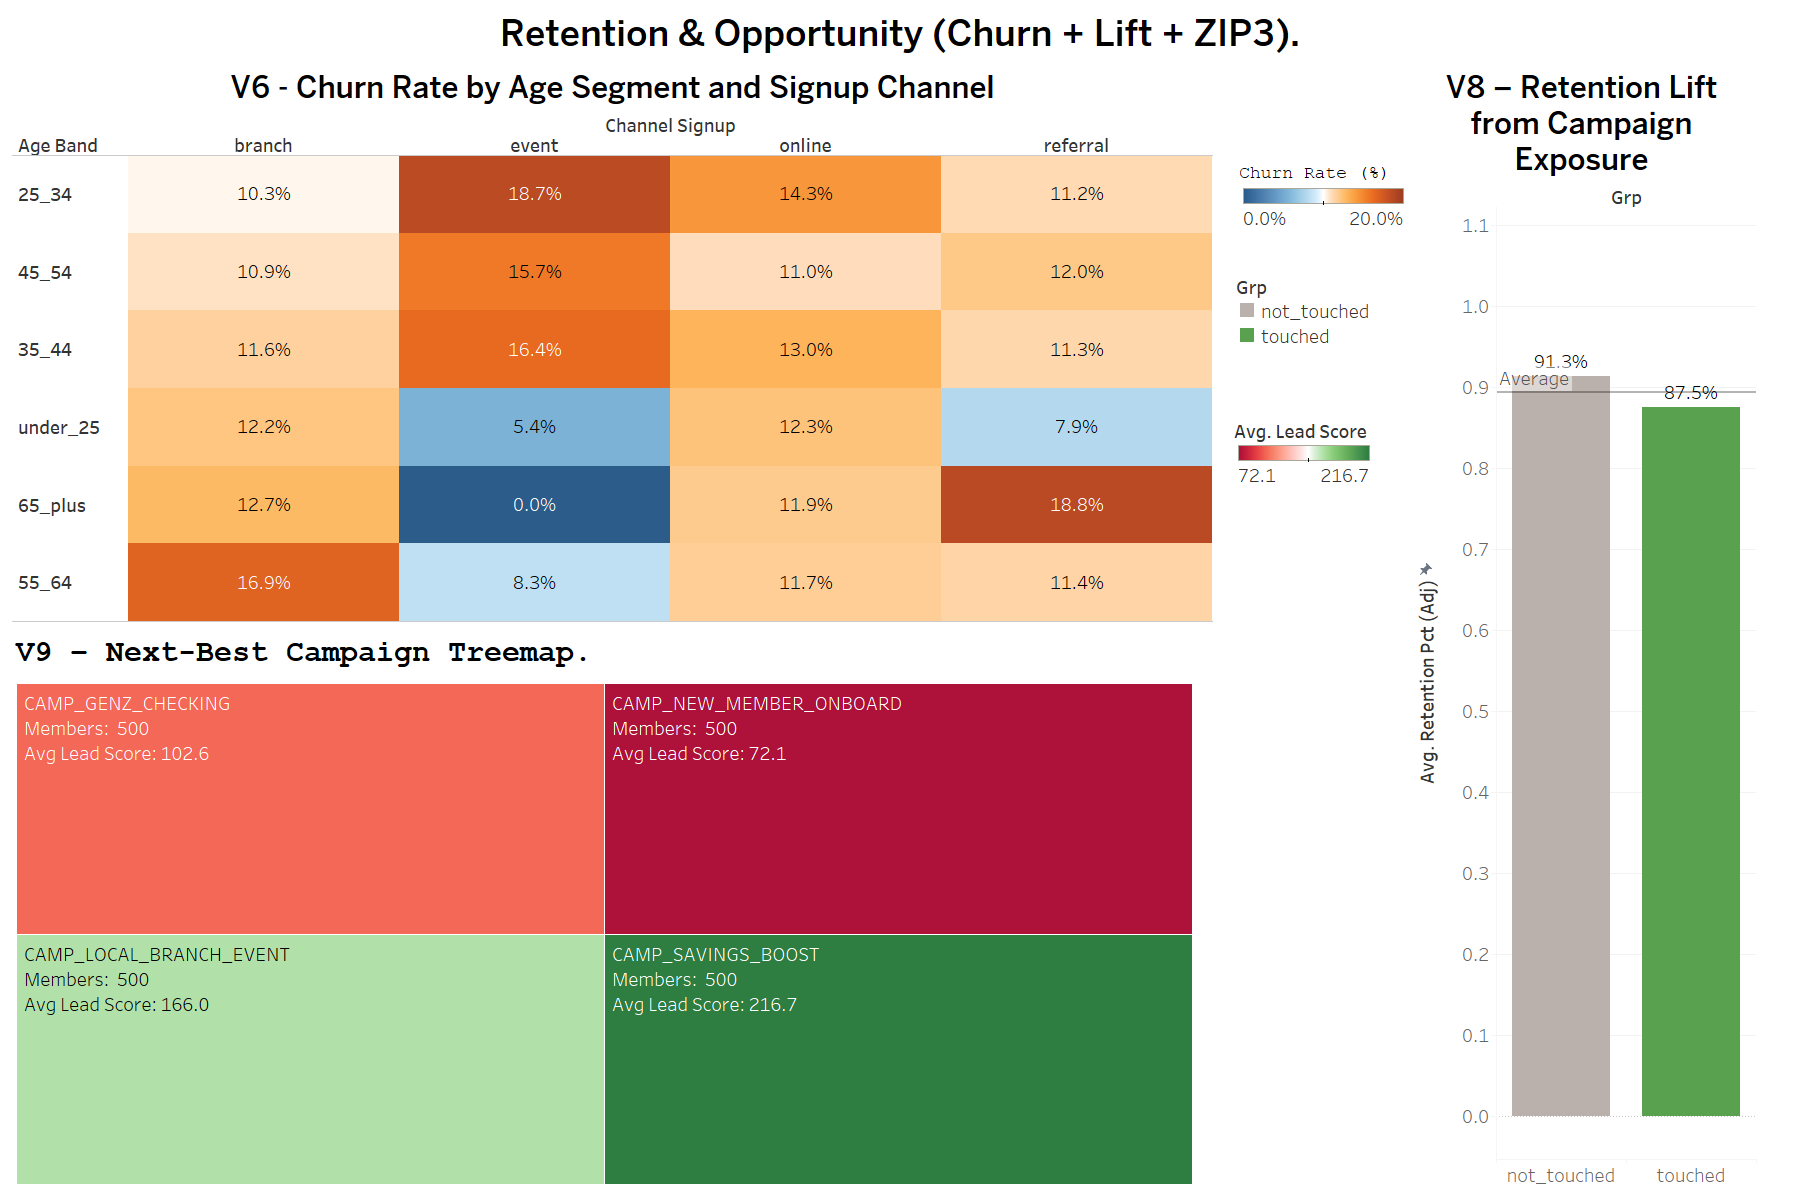

This screenshot's page, from the dashboard's own definition file:
{"tool":"tableau","page":{"name":"Part 2 – Credit Union Retention & Opportunity Dashboard","canvas":[1800,1200],"ordinal":0},"visuals":[{"type":"title","box":[8,8,1784,52]},{"type":"worksheet","title":"V6 Churn Rate by Age Segment ","mark":"Square","rows":["age_band"],"cols":["channel_signup"],"box":[8,60,1192,566]},{"type":"blank","box":[1200,60,203,1132]},{"type":"worksheet","title":"  V8 – Retention Lift Bars ","mark":"Bar","rows":["Calculation_3462986706826620949"],"cols":["grp"],"box":[1403,60,357,1132]},{"type":"legend","title":"V6 Churn Rate by Age Segment ","param":"[federated.0j1t0520mxpuqm10w3k5w0xkul0q].[sum:Calculation_3462986706548174861:qk","box":[1197,102,205,96]},{"type":"worksheet","title":"V9 – Next-Best Campaign Treemap.","mark":"Automatic","box":[8,626,1192,566]},{"type":"legend","title":"V9 – Next-Best Campaign Treemap.","param":"[federated.0ivtyxj0hg622g1821ch103bxn0x].[avg:lead_score:qk]","box":[1205,652,160,100]}]}

Visuals, with their boxes in screenshot pixels (x1, y1, x2, y2), scaled from the page's 1800x1200 canvas onto the 1800x1200 screenshot:
title: select_region(8, 8, 1792, 60)
"V6 Churn Rate by Age Segment " worksheet (Square marks): select_region(8, 60, 1200, 626)
blank: select_region(1200, 60, 1403, 1192)
"  V8 – Retention Lift Bars " worksheet (Bar marks): select_region(1403, 60, 1760, 1192)
"V6 Churn Rate by Age Segment " legend: select_region(1197, 102, 1402, 198)
"V9 – Next-Best Campaign Treemap." worksheet: select_region(8, 626, 1200, 1192)
"V9 – Next-Best Campaign Treemap." legend: select_region(1205, 652, 1365, 752)
